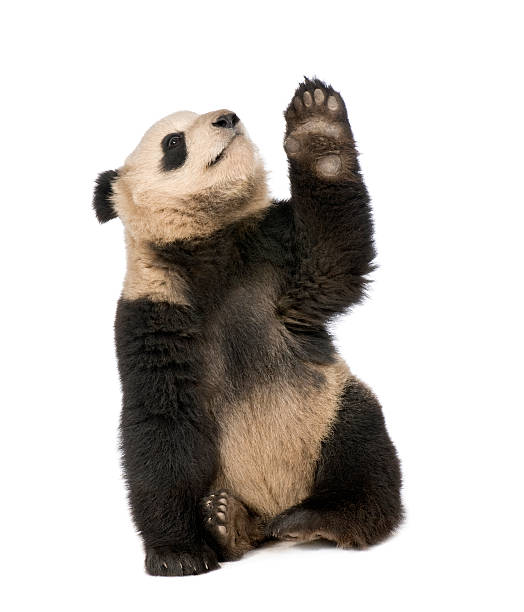panda: (55, 84, 269, 286)
